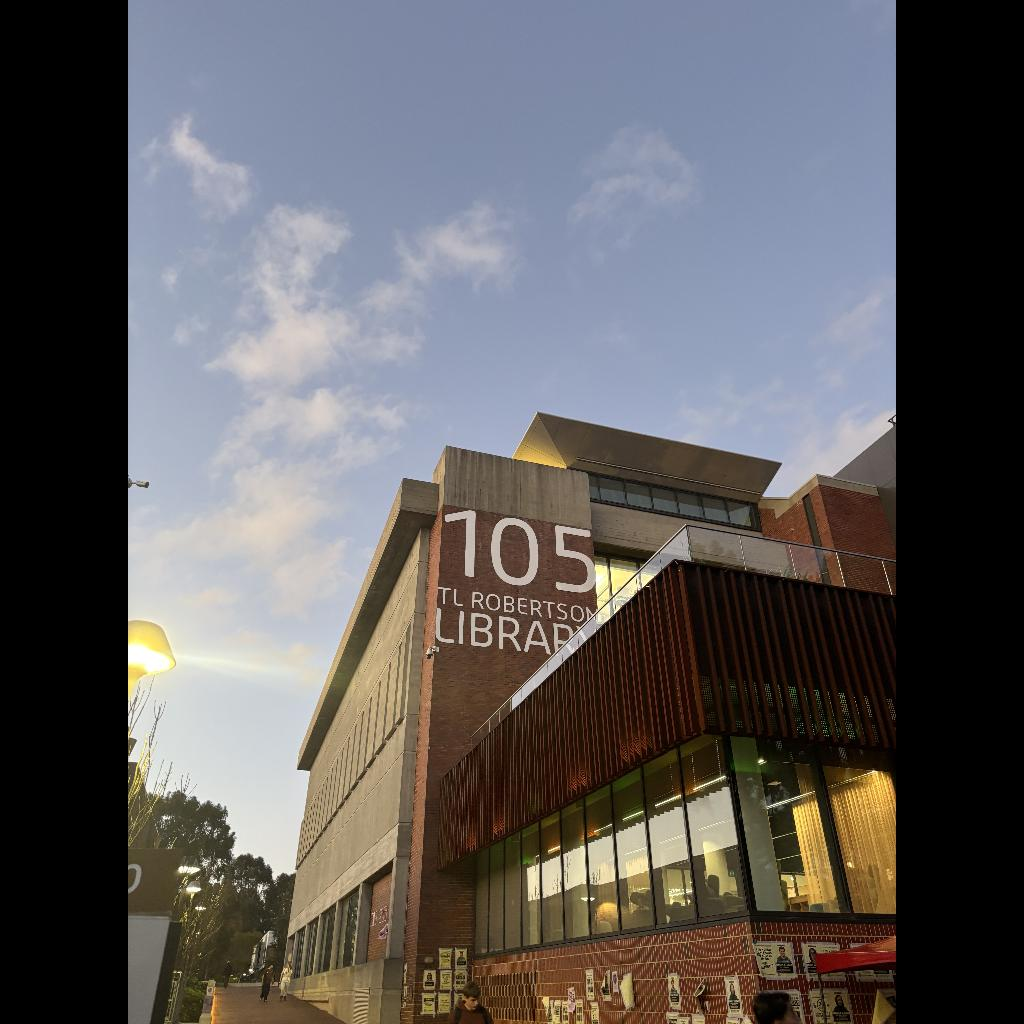BuildingCodes: (444, 509, 598, 595)
